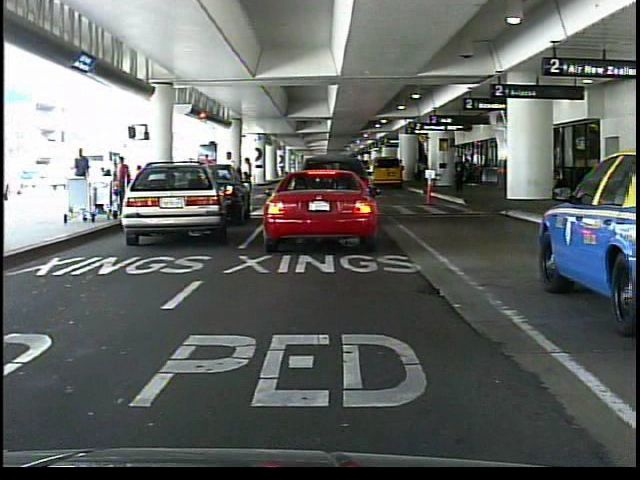person: (72, 146, 94, 212), (222, 146, 241, 222), (295, 152, 314, 205), (201, 151, 218, 203), (454, 154, 468, 192), (418, 154, 429, 186)
